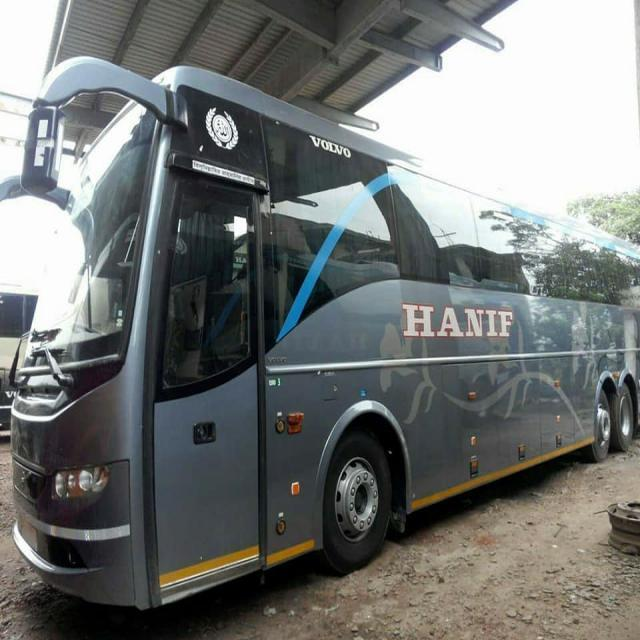bus: (0, 52, 639, 615)
